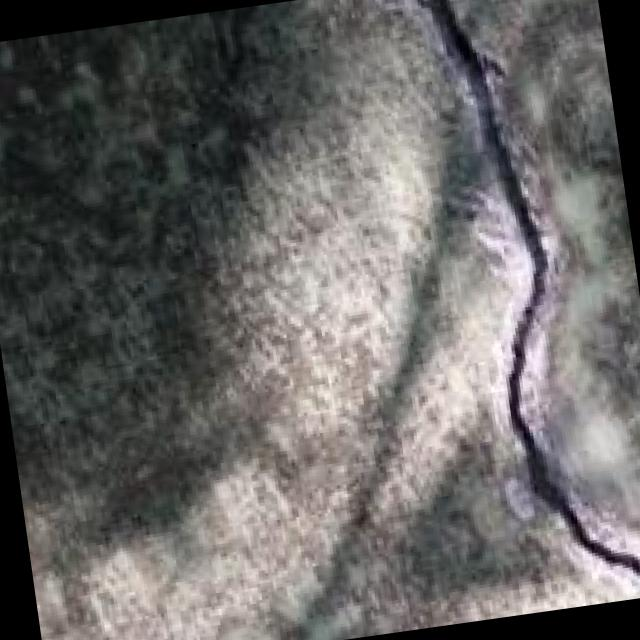crack: (406, 0, 640, 609)
